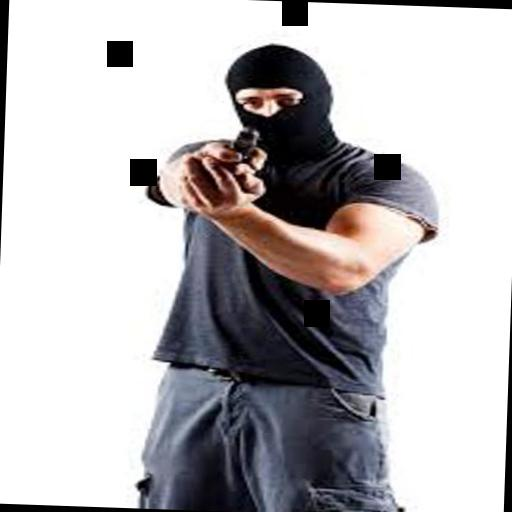Handgun: (223, 120, 261, 172)
